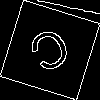C: (25, 25, 79, 83)
